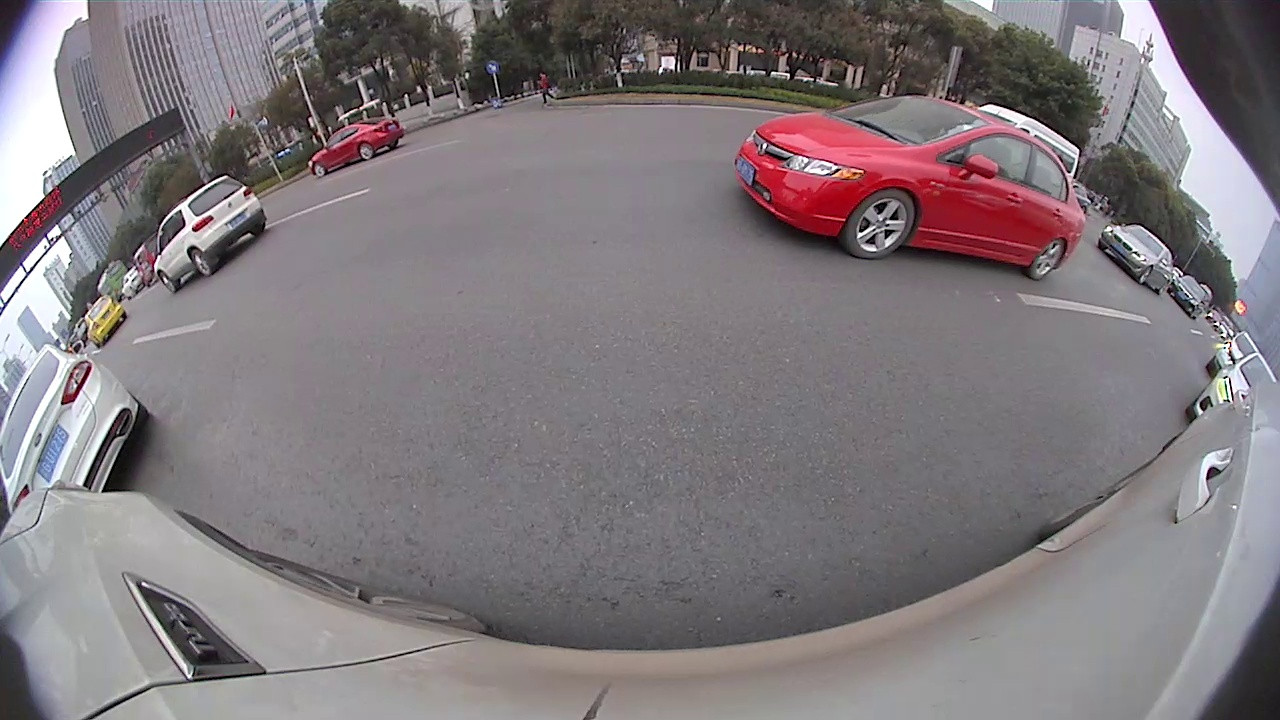car: (737, 97, 1081, 281), (3, 344, 145, 512), (155, 176, 268, 295), (1189, 350, 1279, 433), (306, 114, 406, 182), (1097, 225, 1172, 293), (83, 296, 127, 340)
front: (846, 186, 917, 261), (160, 270, 179, 296), (1138, 265, 1153, 284), (313, 162, 327, 178)
rear: (1031, 239, 1067, 282), (190, 250, 214, 278), (357, 142, 375, 163)
